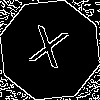X: (25, 25, 69, 78)
